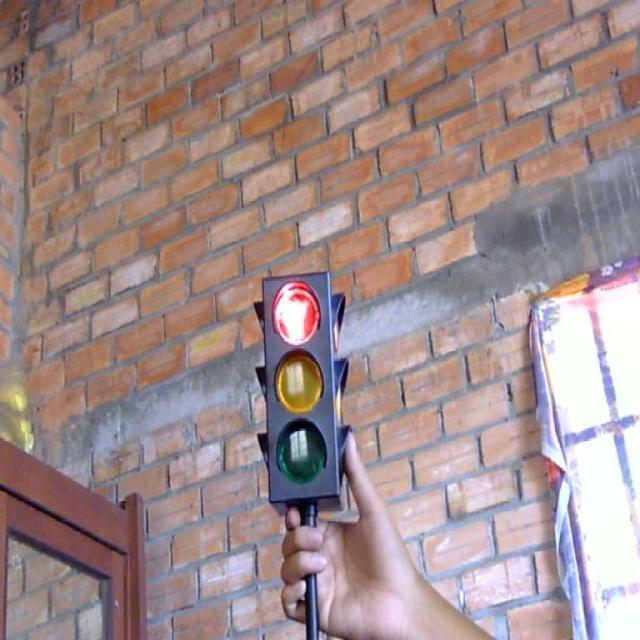red light: (262, 276, 326, 351)
